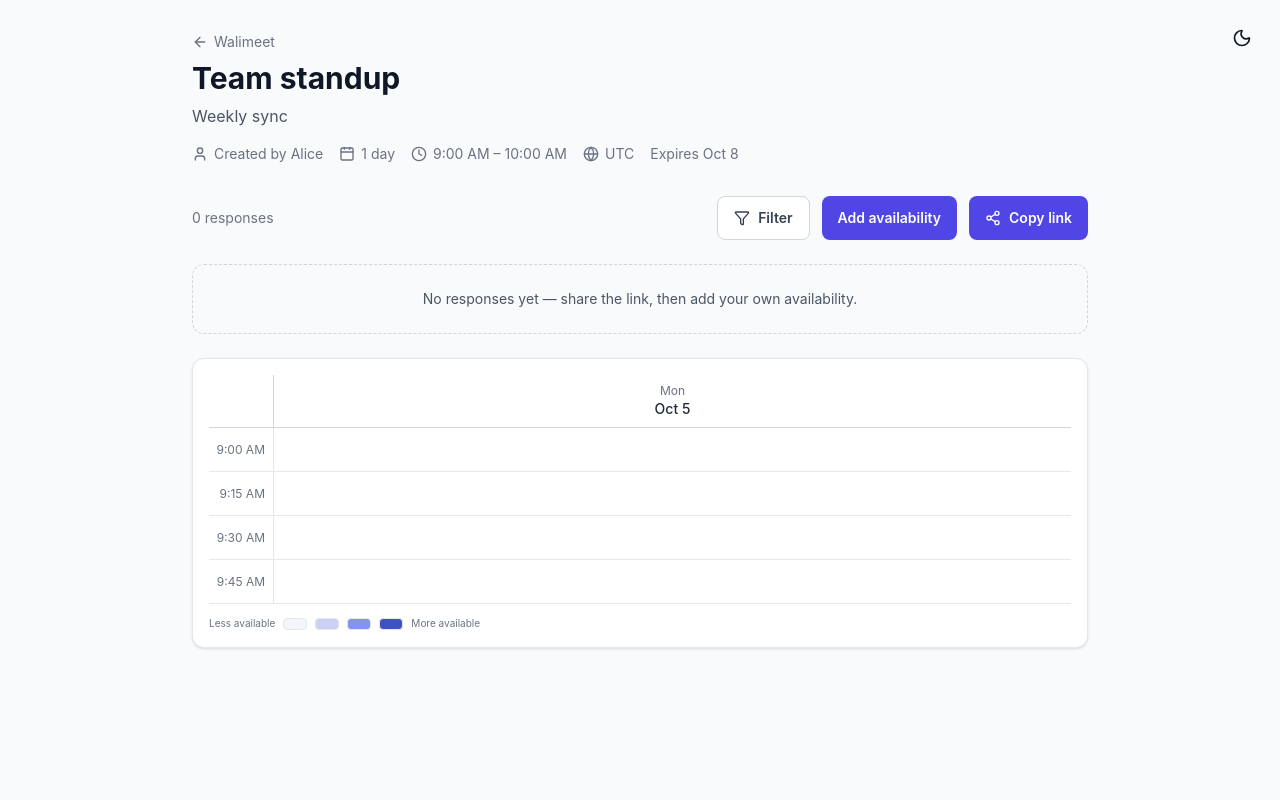
Test: guards and gating › keeps Submit disabled until the grid changes
The image size is (1280, 800).
Expected: the heading "Team standup" is shown, [192, 60, 400, 96]
Click the button "Add availability" at (889, 218), box [822, 196, 957, 240]
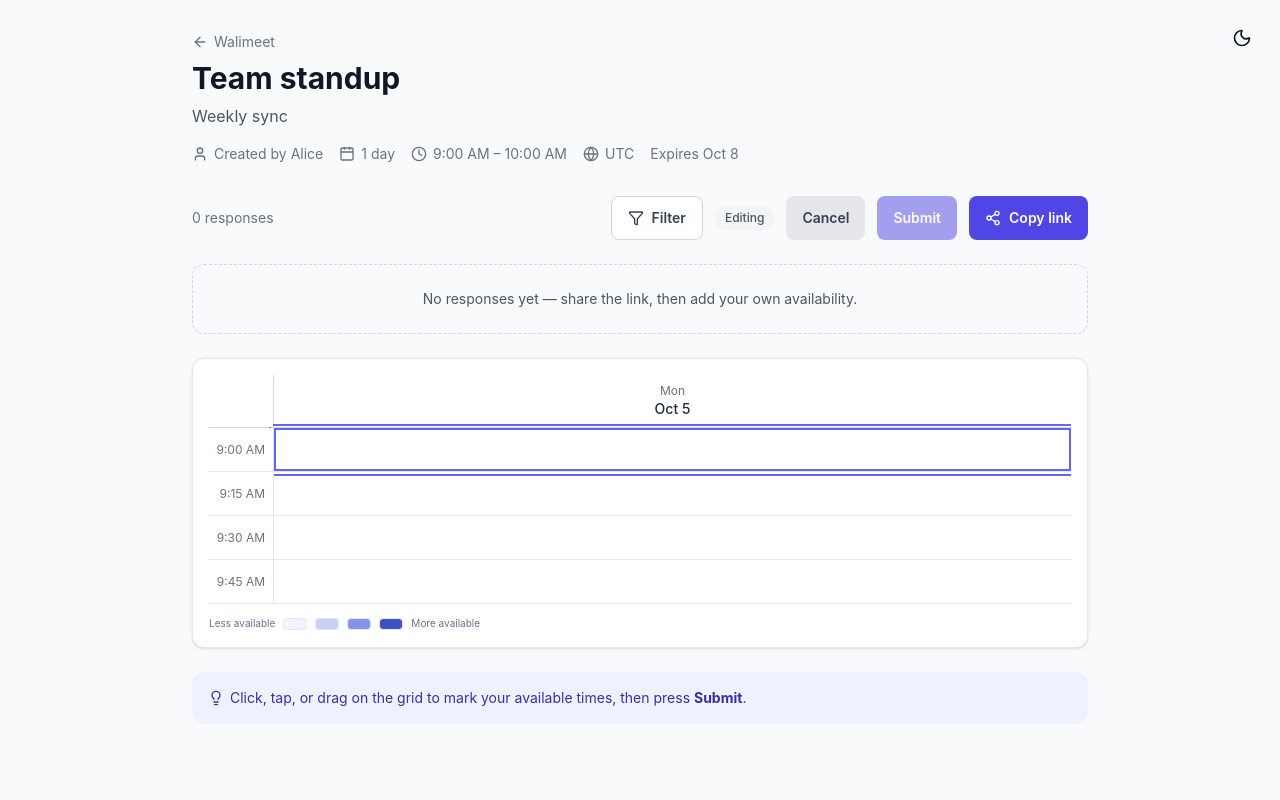
Expected: the button "Submit" is disabled, [877, 196, 957, 240]
Type keys " "
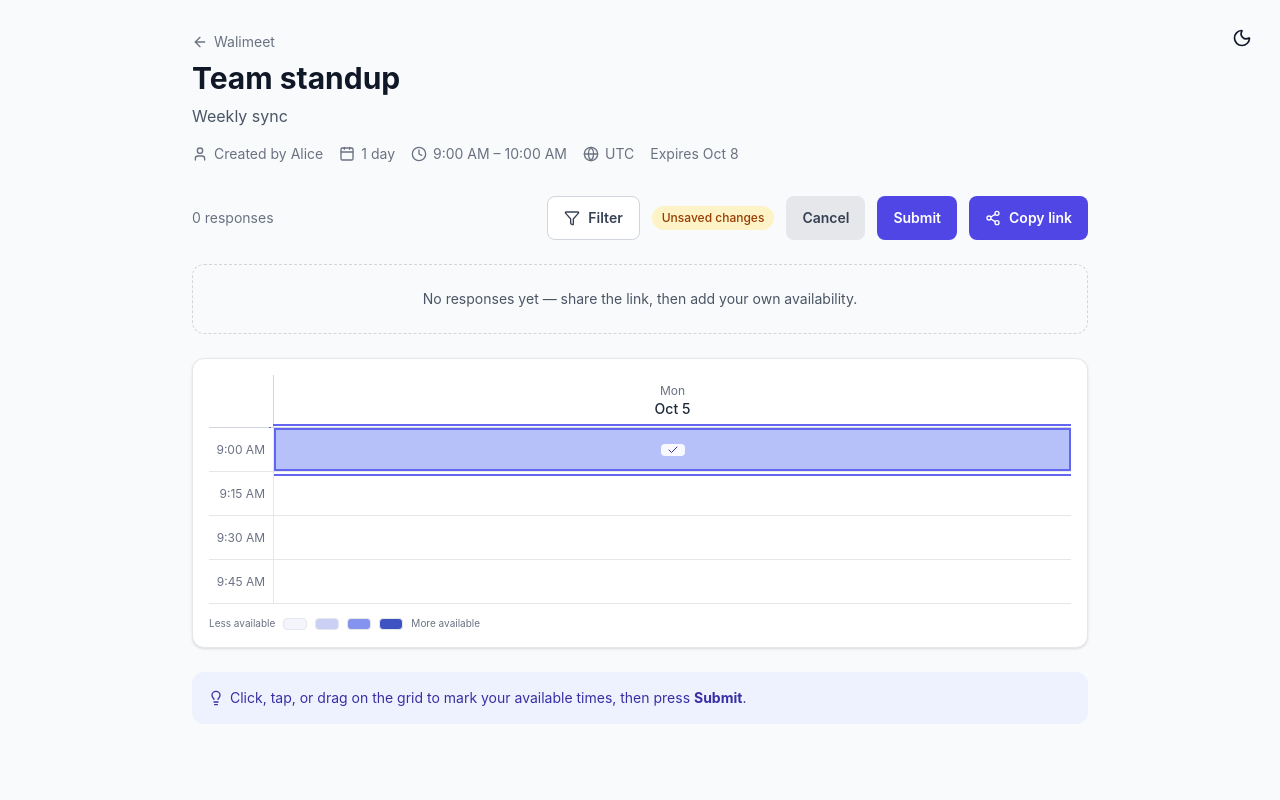
Expected: the button "Submit" is enabled, [877, 196, 957, 240]
